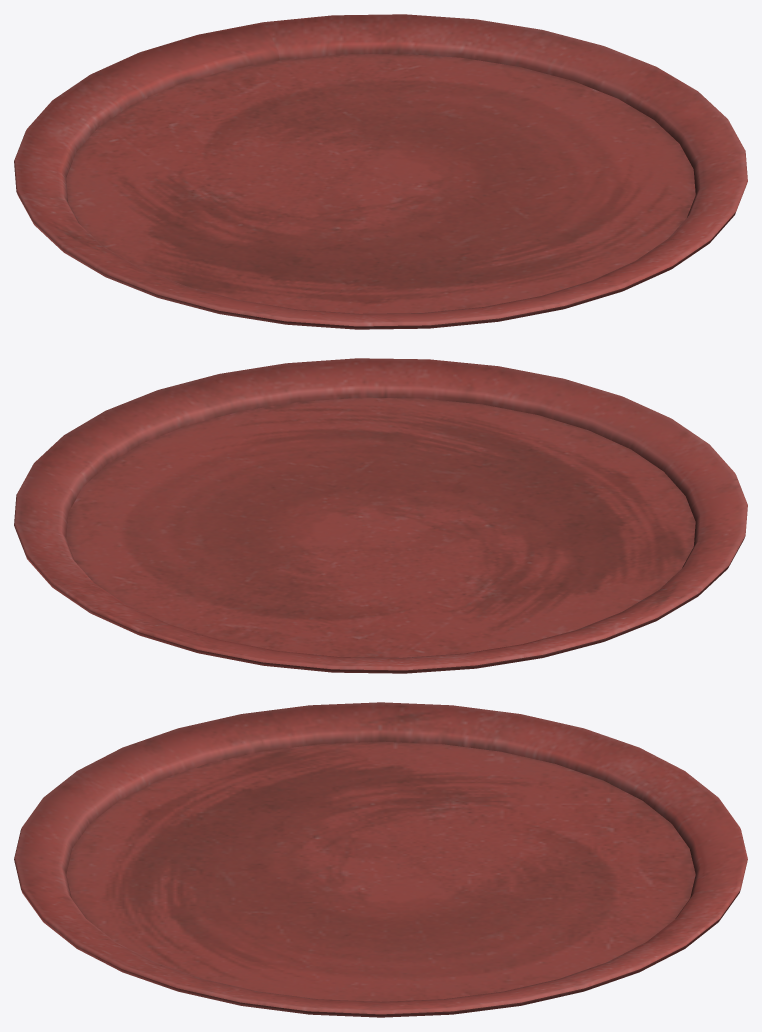
File: SM_Dish_01.fbx
3 views of the same model, one above another, from view 1: azimuth 30°, elevation 25°; view 2: azimuth 150°, elevation 25°; view 3: azimuth 270°, elevation 25° (orthographic).
Visible parts, largest first — view 1: SM_Dish_01_LOD0; view 2: SM_Dish_01_LOD0; view 3: SM_Dish_01_LOD0.
Part boxes in pixels (x1,y1,x2,y2): SM_Dish_01_LOD0: [14, 14, 747, 329]; SM_Dish_01_LOD0: [14, 358, 747, 673]; SM_Dish_01_LOD0: [14, 702, 747, 1017].
Size of the model in its own units: 37.51 by 37.51 by 1.41.
Materials: 1 (1 with a texture image).
